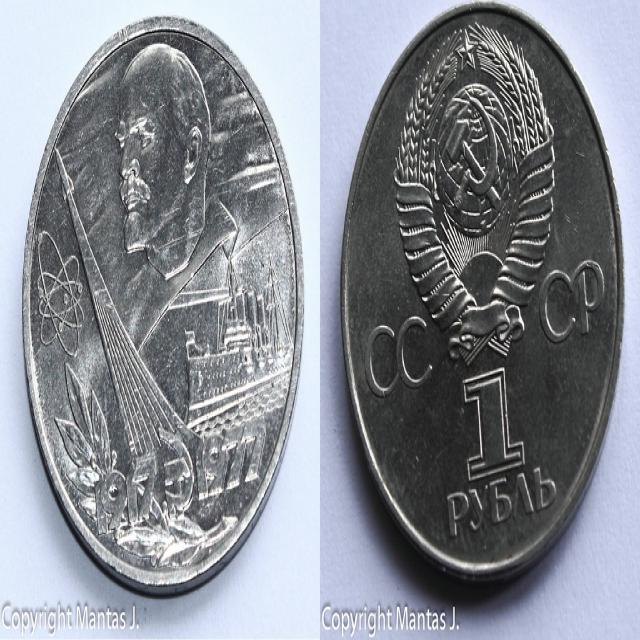Coin: (341, 0, 623, 590), (23, 15, 303, 603)
